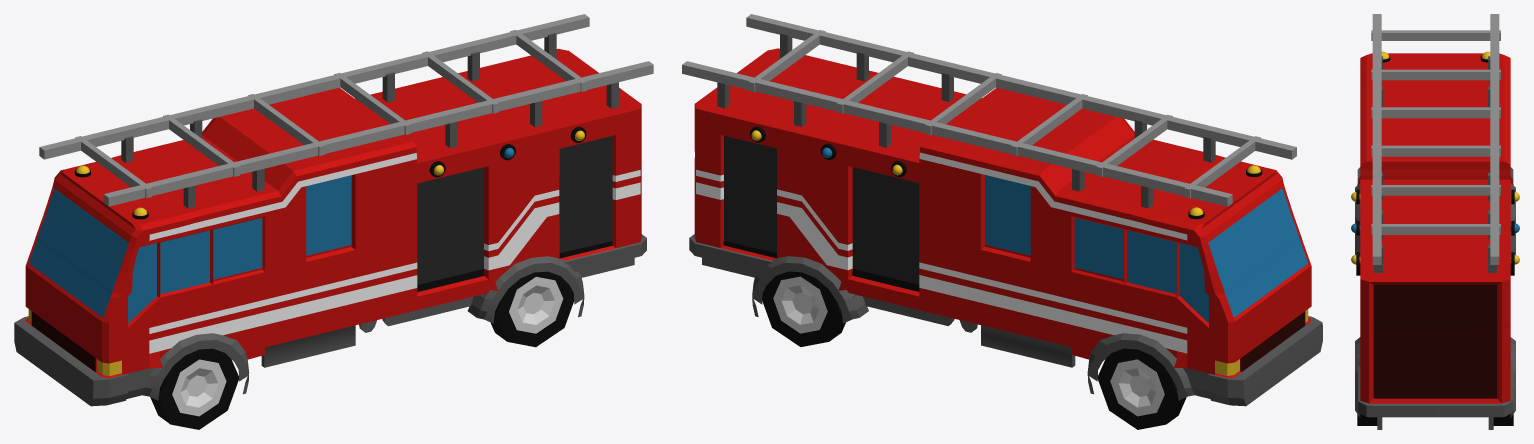
The model's file is straz pozarna.FBX.
3 renders of one model, left to right at view 1: azimuth 30°, elevation 25°; view 2: azimuth 150°, elevation 25°; view 3: azimuth 270°, elevation 25°, orthographic. The views are drawn at different scales.
Parts seen in each view (by area): view 1: Tube001, Plane008, kola; view 2: Tube001, Plane008, kola; view 3: Tube001, Plane008, kola.
Part boxes in pixels (x1,y1,x2,y2): Tube001: [14, 33, 646, 406]; Plane008: [39, 14, 653, 206]; kola: [150, 271, 574, 429]; Tube001: [689, 33, 1322, 406]; Plane008: [682, 14, 1296, 206]; kola: [762, 271, 1186, 429]; Tube001: [1351, 51, 1519, 429]; Plane008: [1371, 14, 1500, 264]; kola: [1356, 264, 1514, 425].
Size of the model in its own units: 52.56 by 21.8 by 14.88.
